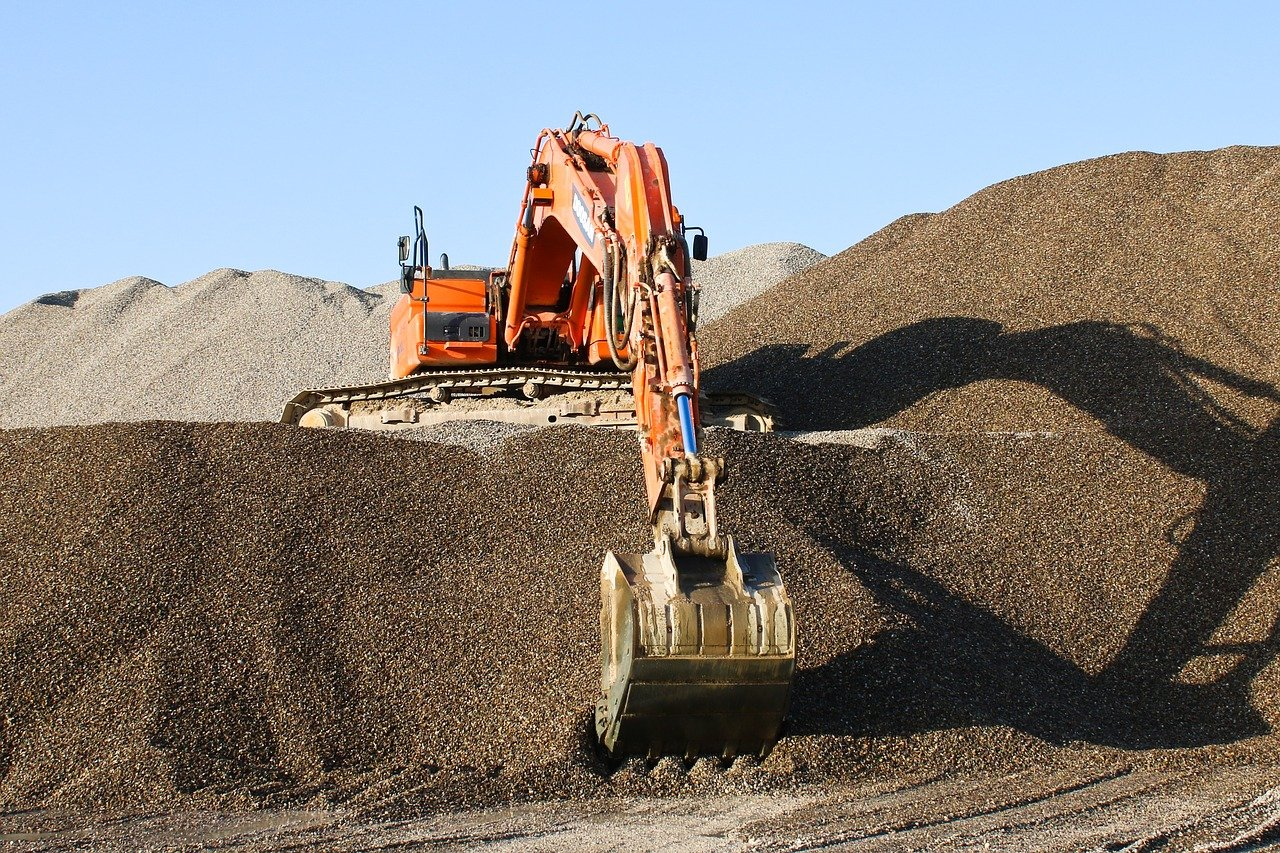bulldozer: (295, 103, 826, 752)
